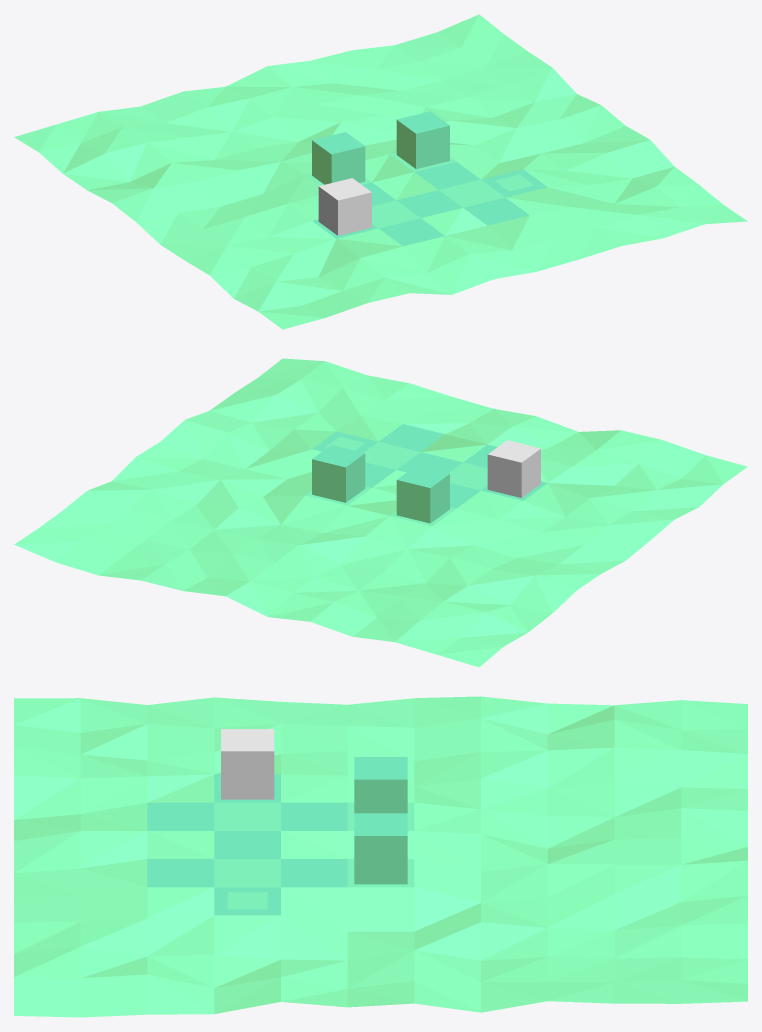
The model's file is Level62.dae.
3 renders of one model, top to bottom at view 1: azimuth 30°, elevation 25°; view 2: azimuth 150°, elevation 25°; view 3: azimuth 270°, elevation 25°, orthographic. The views are drawn at different scales.
Parts seen in each view (by area): view 1: surface, Blocky, Enemy1, Enemy0; view 2: surface, Blocky, Enemy0, Enemy1; view 3: surface, Enemy1, Blocky, Enemy0.
Boxes of the visible parts, bbox=[...] form: surface: bbox=[14, 14, 747, 329]; Blocky: bbox=[318, 178, 371, 235]; Enemy1: bbox=[396, 111, 449, 169]; Enemy0: bbox=[312, 132, 365, 184]; surface: bbox=[14, 358, 747, 667]; Blocky: bbox=[487, 440, 540, 497]; Enemy0: bbox=[396, 465, 449, 523]; Enemy1: bbox=[312, 445, 365, 502]; surface: bbox=[14, 696, 747, 1017]; Enemy1: bbox=[354, 813, 407, 884]; Blocky: bbox=[221, 729, 274, 799]; Enemy0: bbox=[354, 757, 407, 813].
Size of the model in its own units: 11 by 11 by 1.1.
